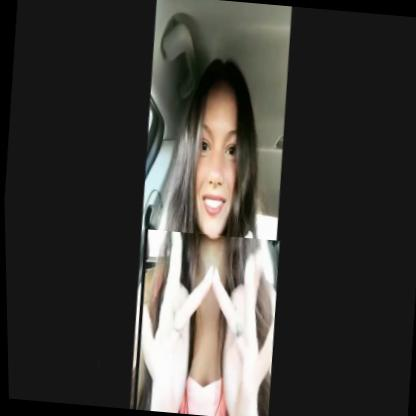Internet: (128, 229, 281, 416)
